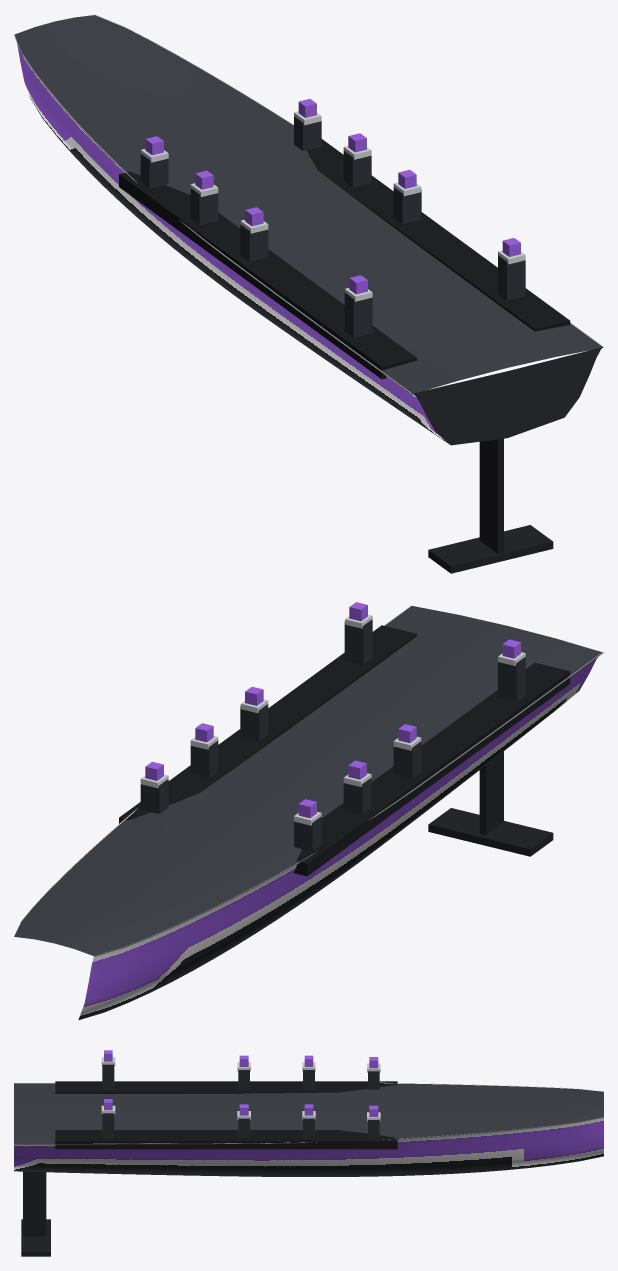
The model's file is hull_4.glb.
3 renders of one model, top to bottom at view 1: azimuth 30°, elevation 25°; view 2: azimuth 150°, elevation 25°; view 3: azimuth 270°, elevation 25°, orthographic. The views are drawn at different scales.
Parts seen in each view (by area): view 1: hull_4_body; view 2: hull_4_body; view 3: hull_4_body.
Part boxes in pixels (x1,y1,x2,y2): hull_4_body: (14,14,603,573); hull_4_body: (14,602,603,1020); hull_4_body: (14,1050,603,1256).
Bounding box in the file's own units: 4.9 × 6.13 × 20.
1 material, 1 textured.
